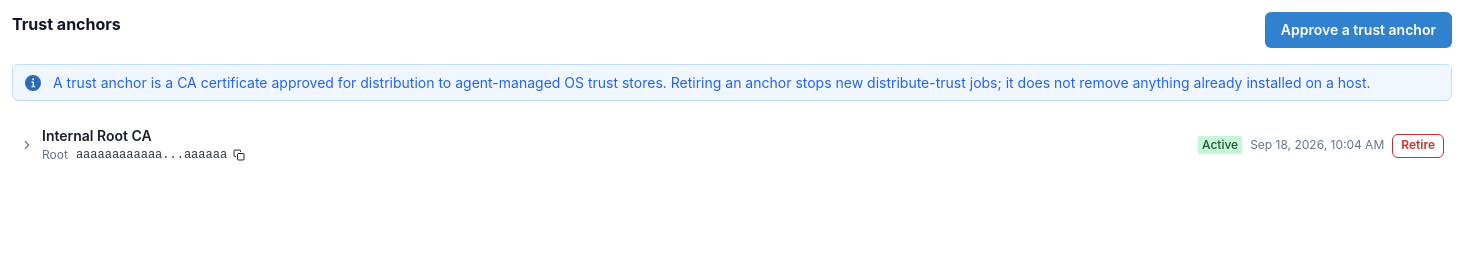
Test: TrustAnchorsPanel › expands a row to show its installations, empty state included
This screenshot has width=1464, height=260.
Click the text "Internal Root CA" at (97, 136), box [42,127,152,144]
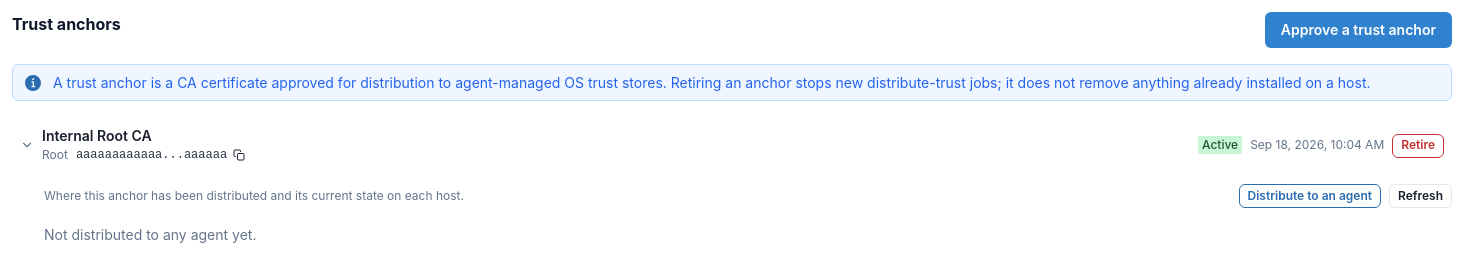
Result: the text "Not distributed to any agent yet." is shown at [44,226,256,243]
